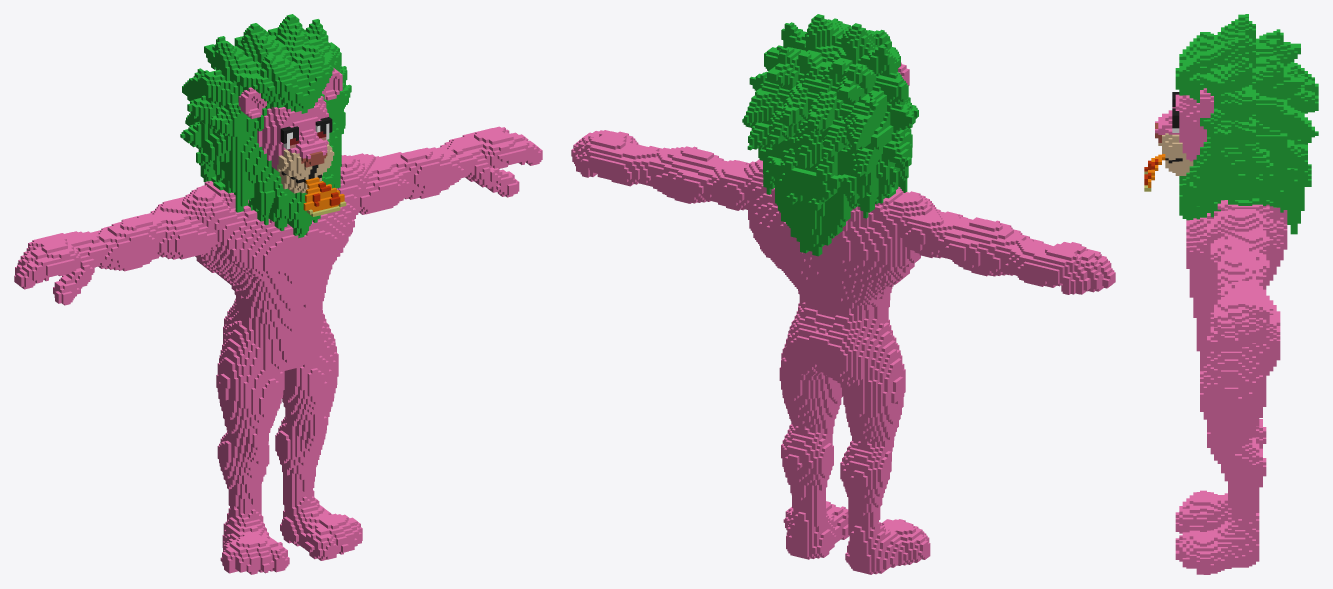
The picture shows the model from 3 angles, left to right: view 1: azimuth 30°, elevation 25°; view 2: azimuth 150°, elevation 25°; view 3: azimuth 270°, elevation 25°; orthographic projection. The views are drawn at different scales.
Parts seen in each view (by area): view 1: pizza; view 2: pizza; view 3: pizza.
Boxes of the visible parts, <box> form: pizza: <box>14,14,542,574</box>; pizza: <box>571,14,1115,574</box>; pizza: <box>1144,14,1318,574</box>.
Bounding box in the file's own units: 17.2 × 16.5 × 5.
4 materials, 4 textured.
